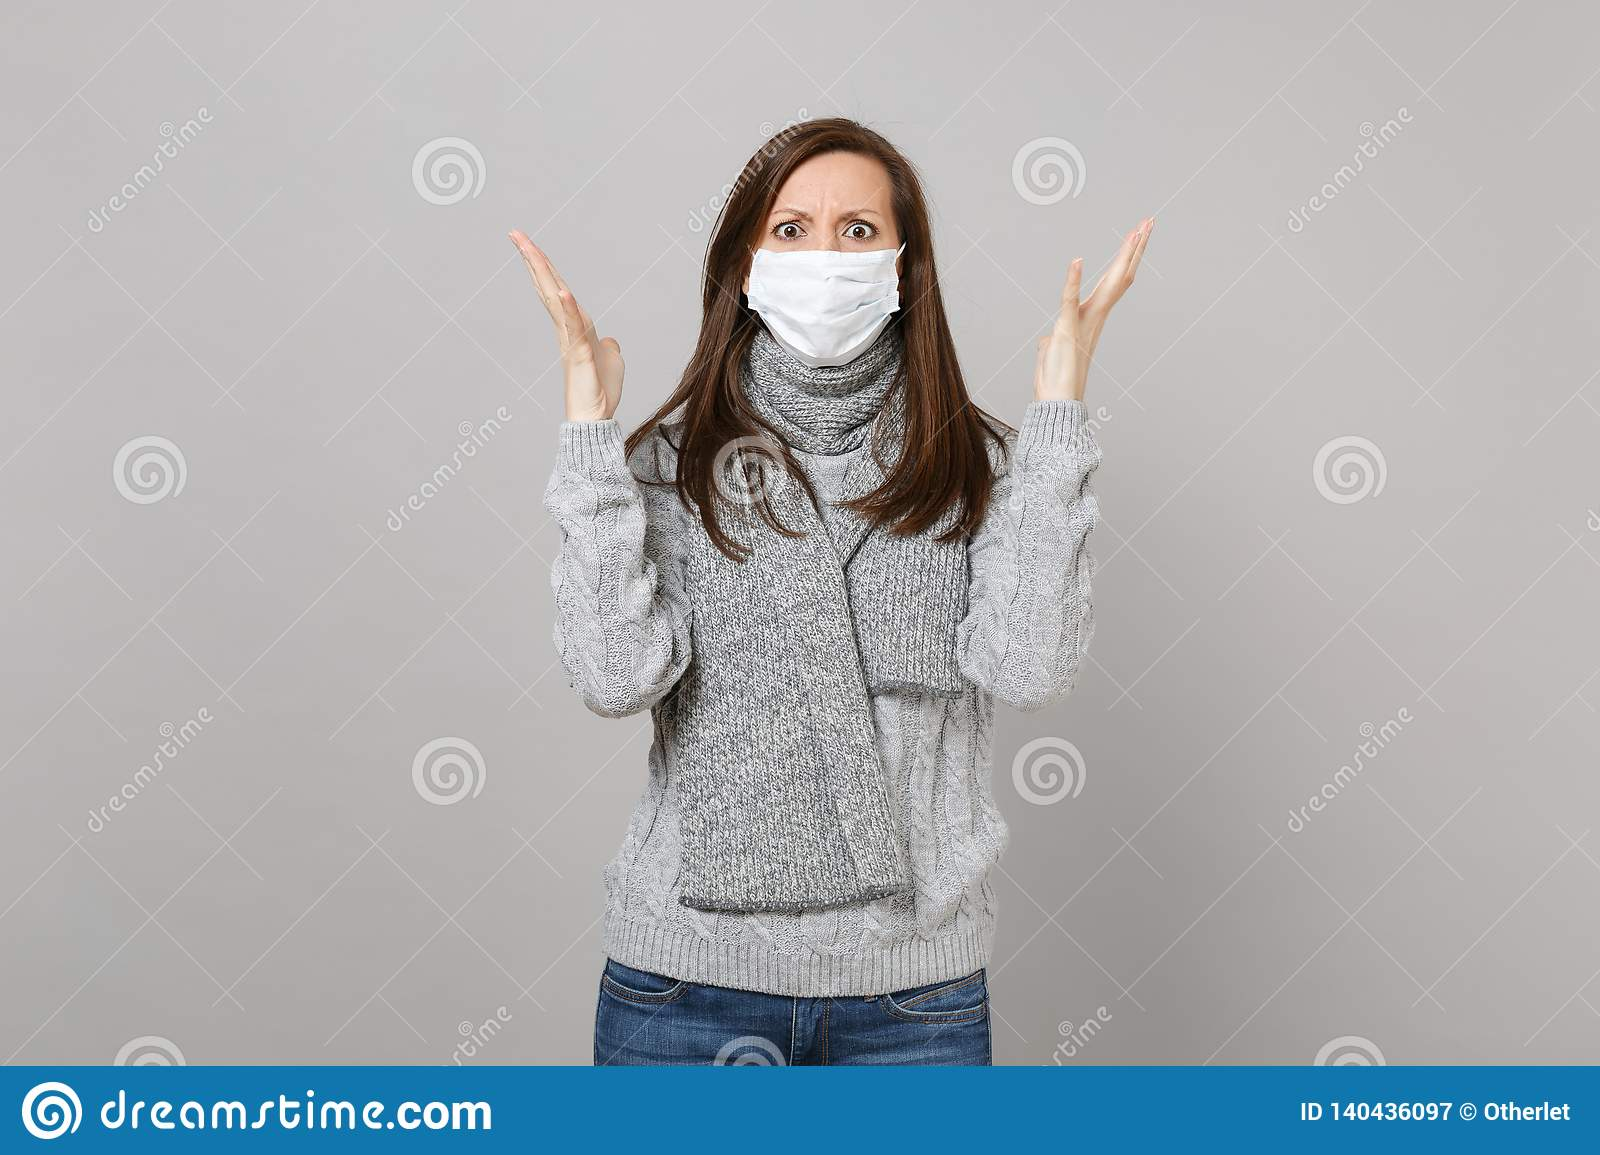mask: (748, 243, 903, 368)
